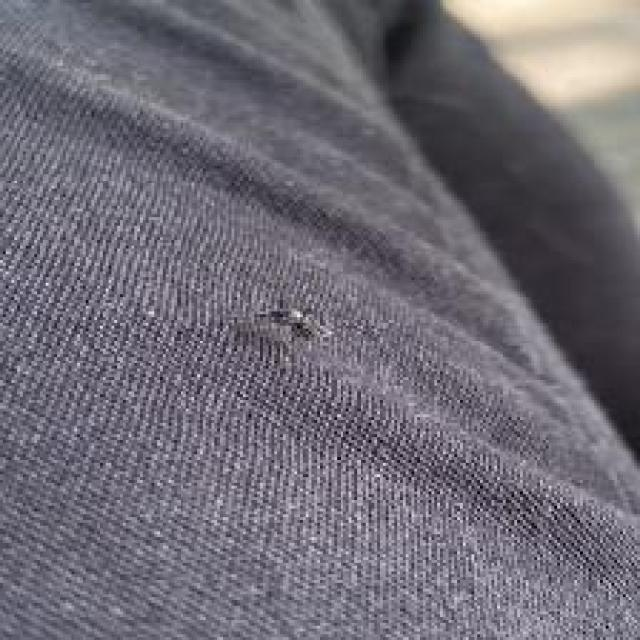Aedes albopictus: (254, 304, 334, 347)
